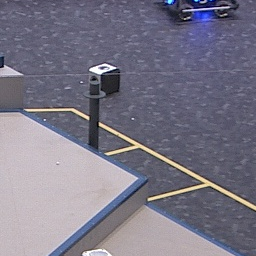Robot: (162, 1, 242, 21)
